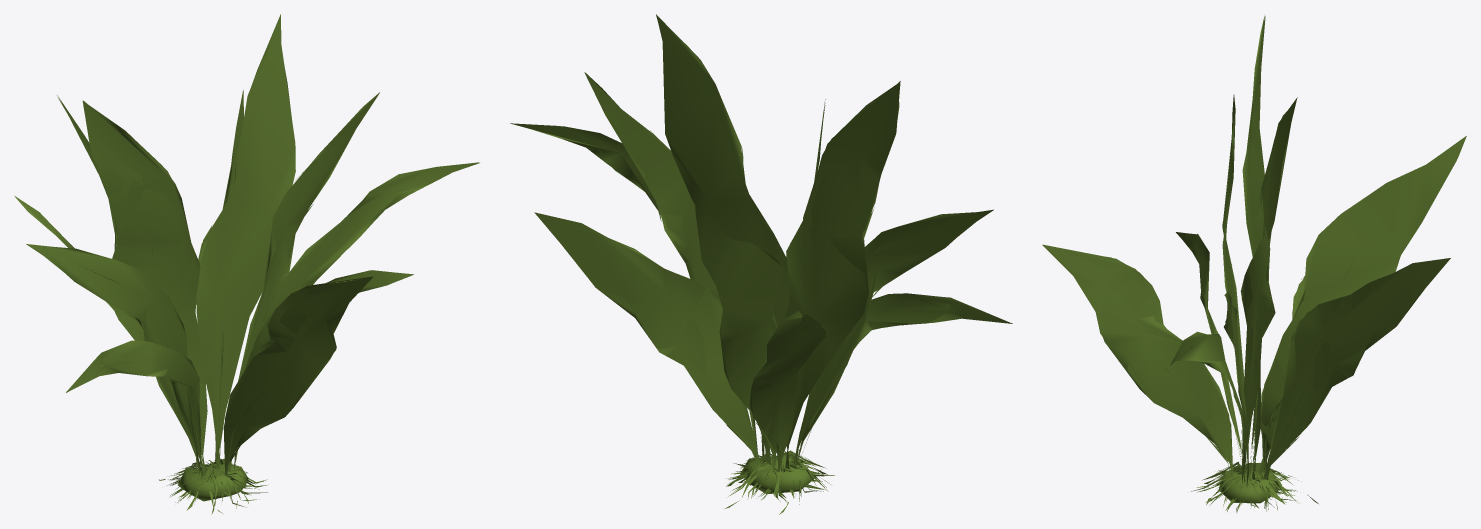
File: leaf-reused.glb
The picture shows the model from 3 angles, left to right: view 1: azimuth 30°, elevation 25°; view 2: azimuth 150°, elevation 25°; view 3: azimuth 270°, elevation 25°; orthographic projection. The views are drawn at different scales.
Parts seen in each view (by area): view 1: Reused_leaf_algae; view 2: Reused_leaf_algae; view 3: Reused_leaf_algae.
Part boxes in pixels (<box>): Reused_leaf_algae: <box>14,14,479,514</box>; Reused_leaf_algae: <box>510,14,1012,514</box>; Reused_leaf_algae: <box>1042,16,1466,512</box>.
Size of the model in its own units: 1.35 by 1.25 by 1.08.
